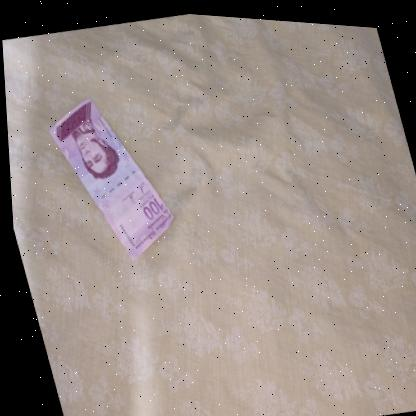one_hundred-front-vef: (38, 81, 181, 273)
